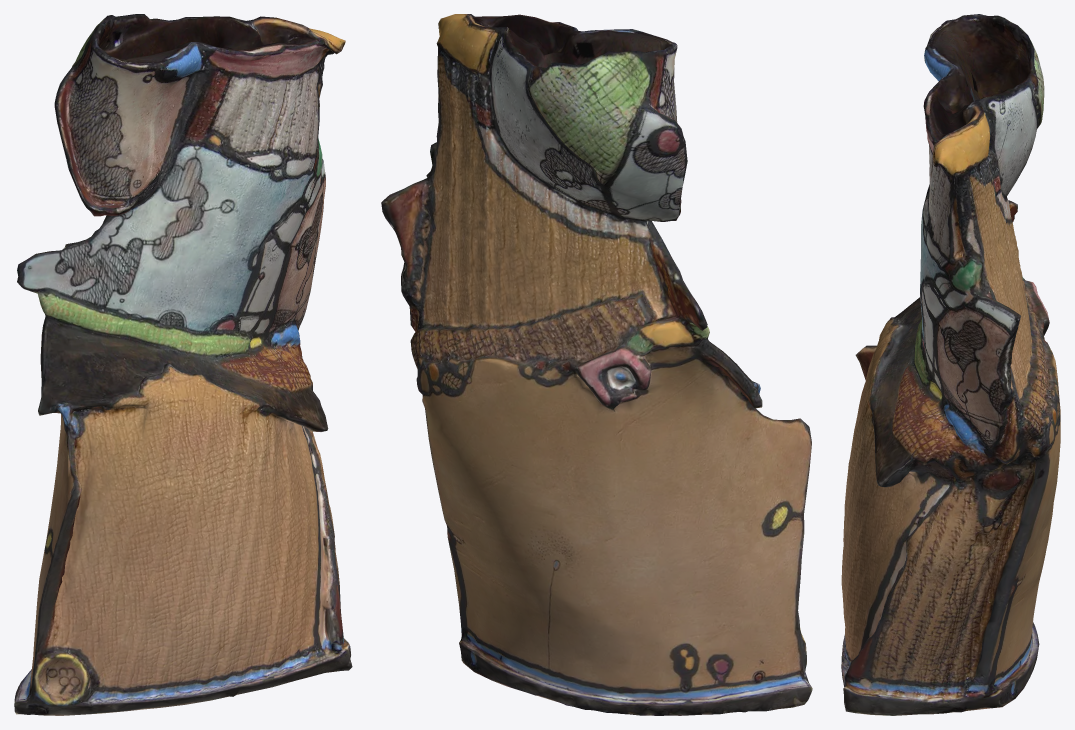
The picture shows the model from 3 angles, left to right: view 1: azimuth 30°, elevation 25°; view 2: azimuth 150°, elevation 25°; view 3: azimuth 270°, elevation 25°; orthographic projection. The views are drawn at different scales.
Parts seen in each view (by area): view 1: 2-12-4k; view 2: 2-12-4k; view 3: 2-12-4k.
Part boxes in pixels (bbox=[...]): 2-12-4k: bbox=[14, 14, 352, 715]; 2-12-4k: bbox=[381, 14, 812, 715]; 2-12-4k: bbox=[841, 14, 1060, 715].
Bounding box in the file's own units: 3.55 × 5.9 × 1.91.
Materials: 1 (1 with a texture image).
